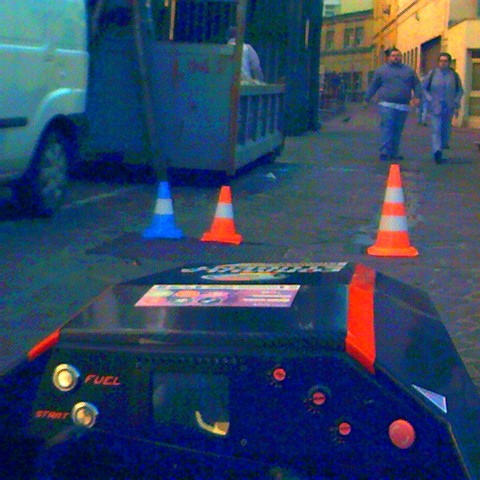cone: (139, 182, 183, 240)
